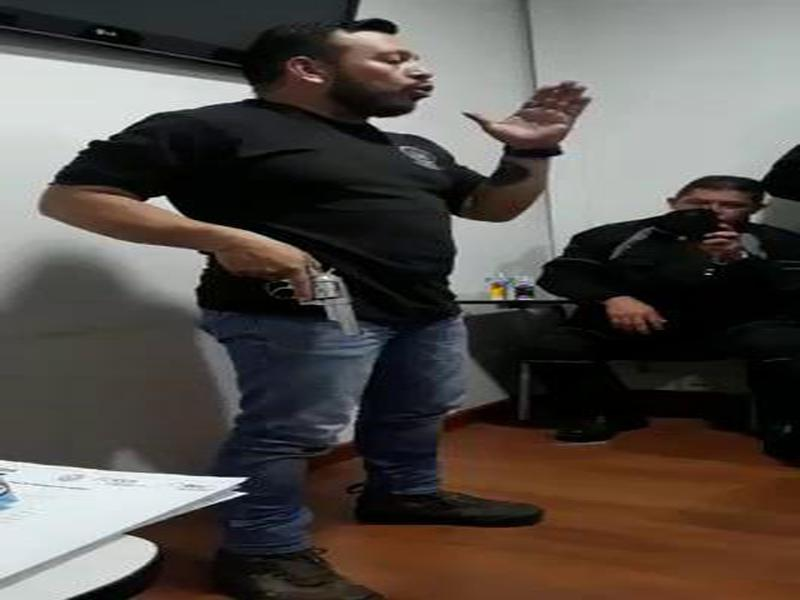Revolver: (262, 234, 374, 367)
